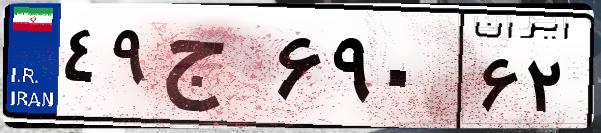0: (385, 28, 445, 110)
2: (525, 38, 570, 115)
4: (57, 26, 110, 100)
6: (270, 28, 330, 110), (475, 38, 525, 113)
9: (330, 28, 385, 110), (110, 28, 158, 98)
ج: (158, 20, 270, 120)
